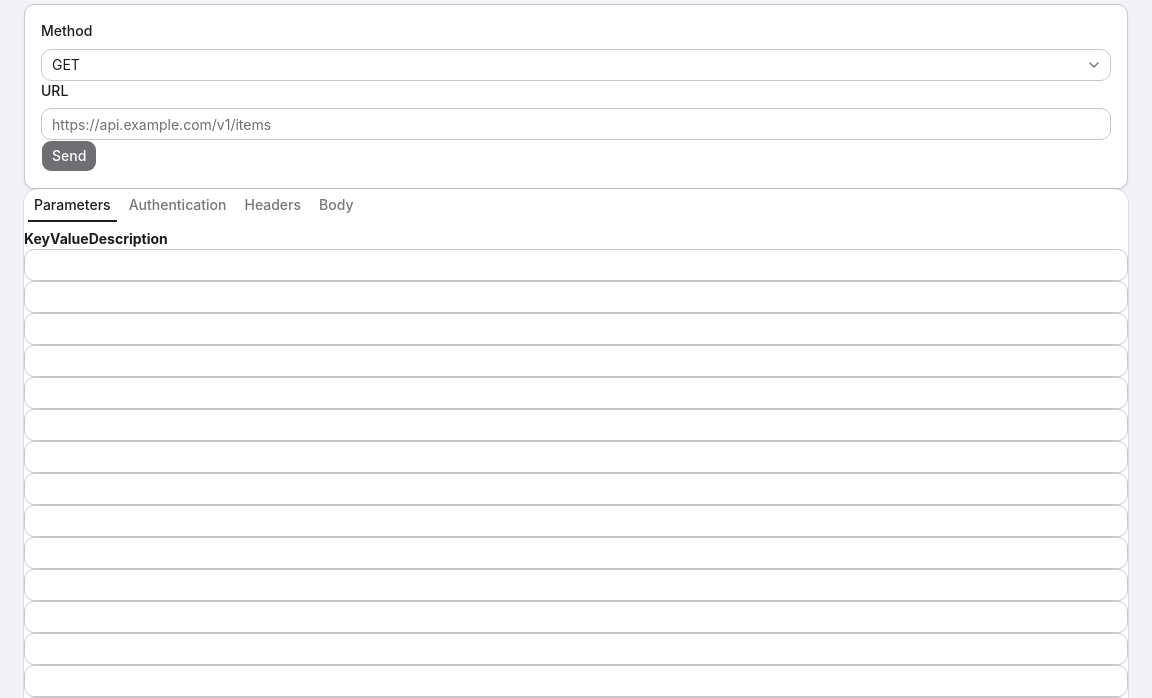
HttpPage › sends the entered URL and shows the native response
Type "https://example.test/items" into the field labelled "URL". click: (576, 124)
box: [41,108,1111,140]
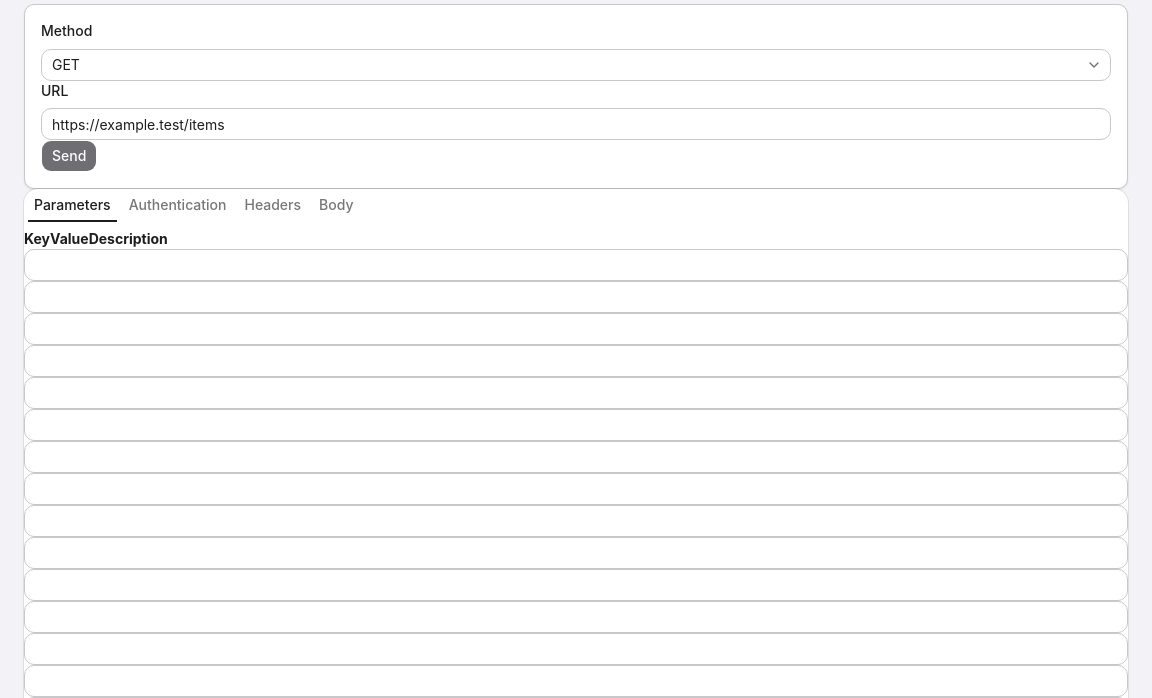
Click the button "Send". click: (69, 156)
box: [41,140,97,172]
(page scrolled)
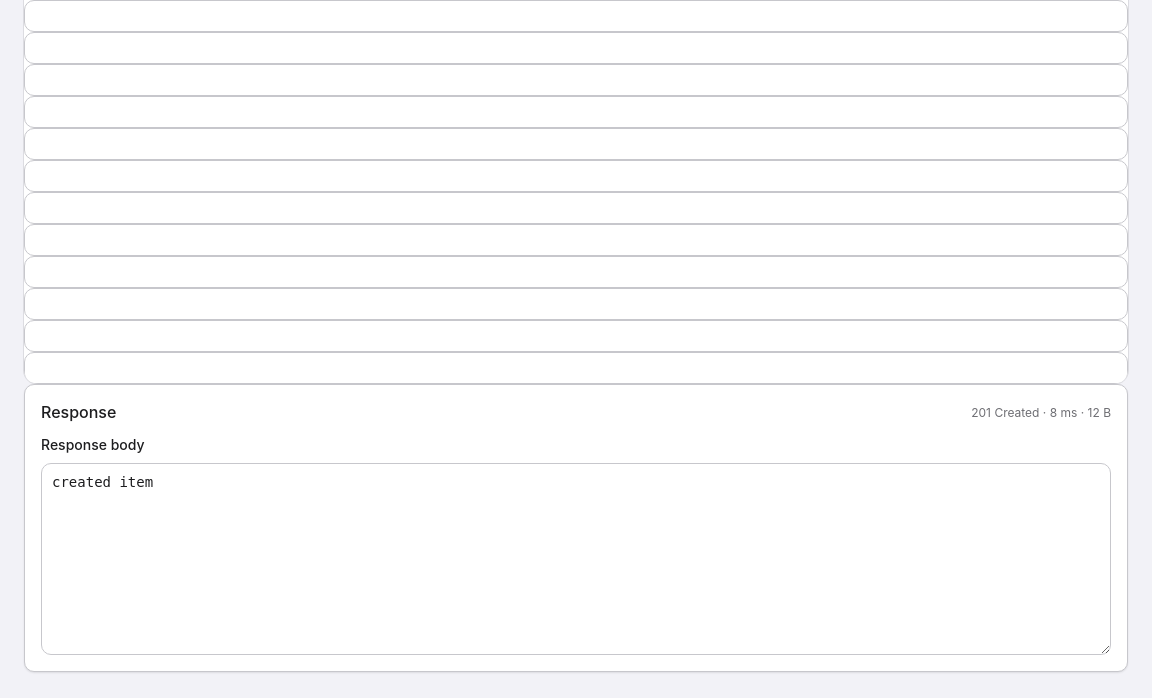
Expected: the text box labelled "Response body" holds "created item", [41,462,1111,654]
